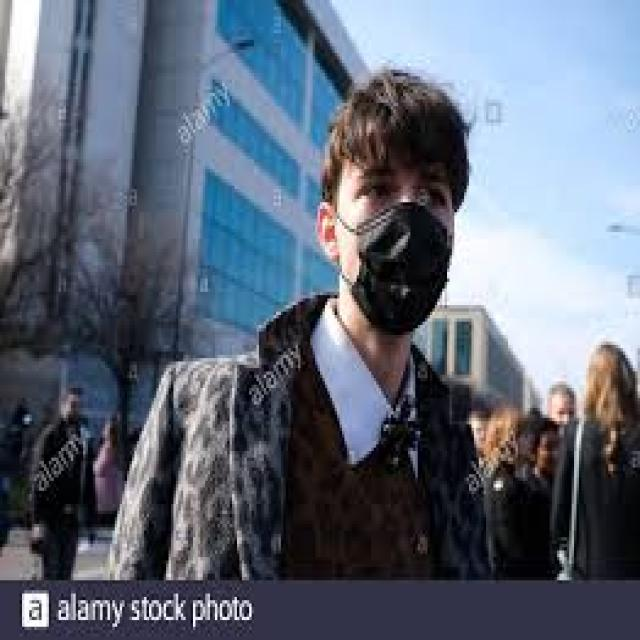mask: (314, 71, 482, 362)
